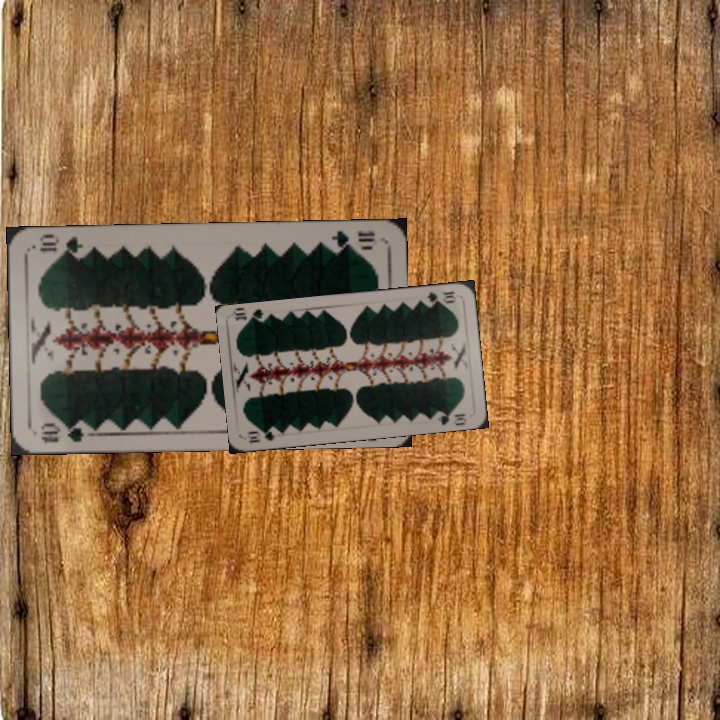G10: (36, 418, 95, 445), (322, 226, 378, 254), (243, 424, 283, 446), (423, 287, 458, 307)
